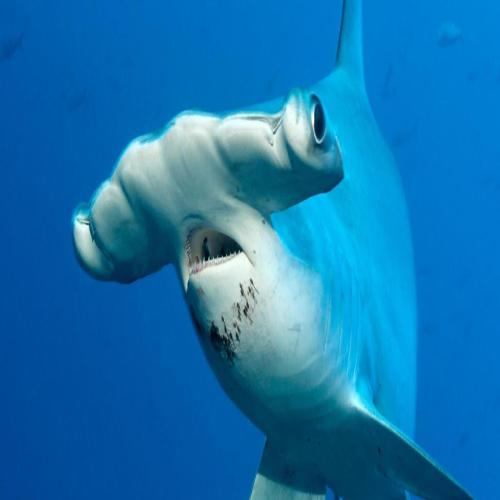shark-endangered: (70, 0, 420, 500)
